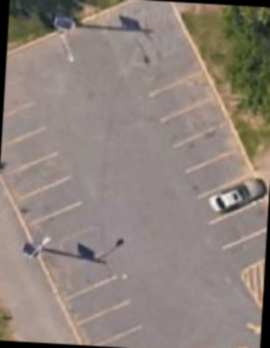parkingspot: (0, 47, 163, 348), (142, 65, 269, 281)
